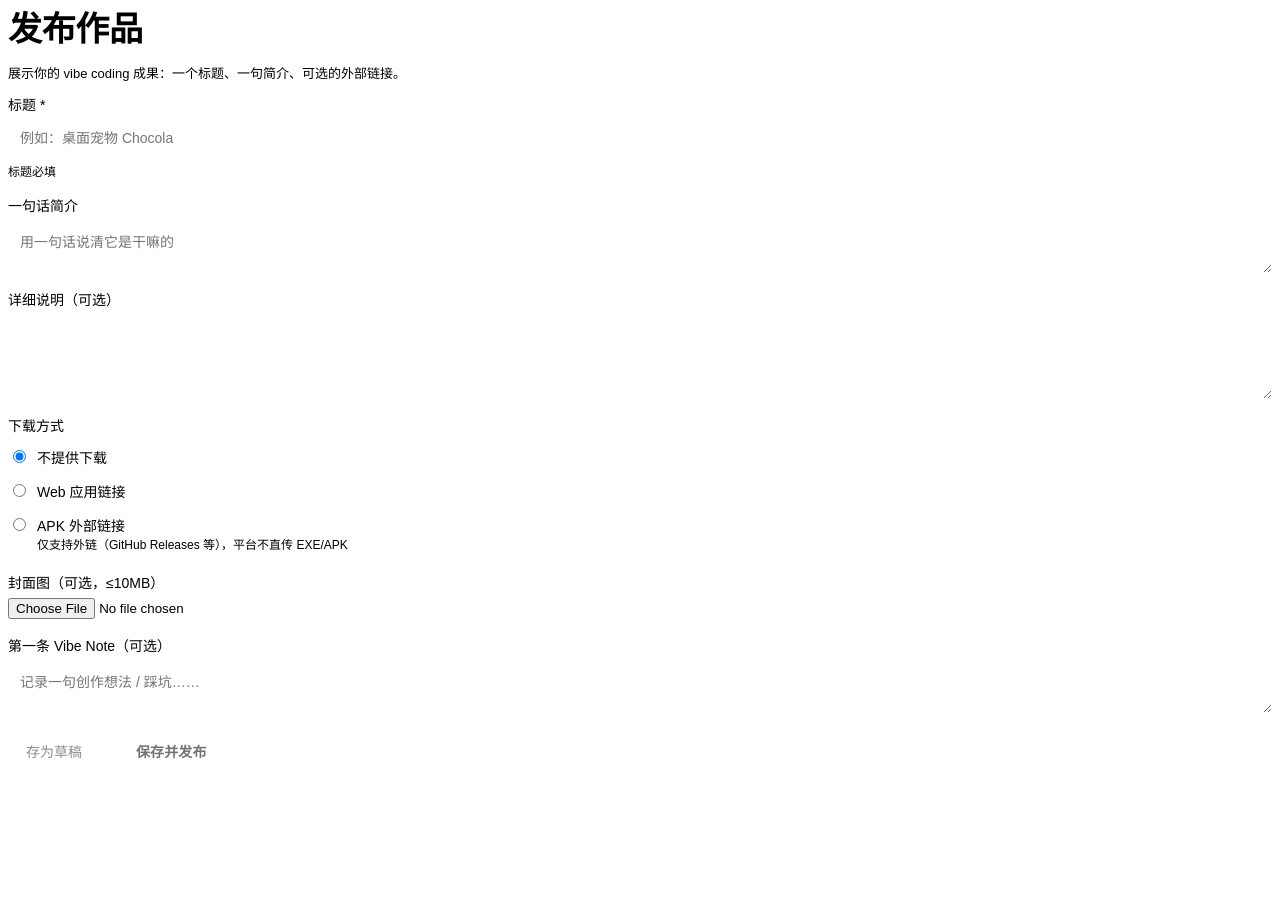
Test: PublishPage validation › accepts valid title + summary
In the field with placeholder "例如：桌面宠物 Chocola": (640,138) [8,120,1272,156], type "Test App"
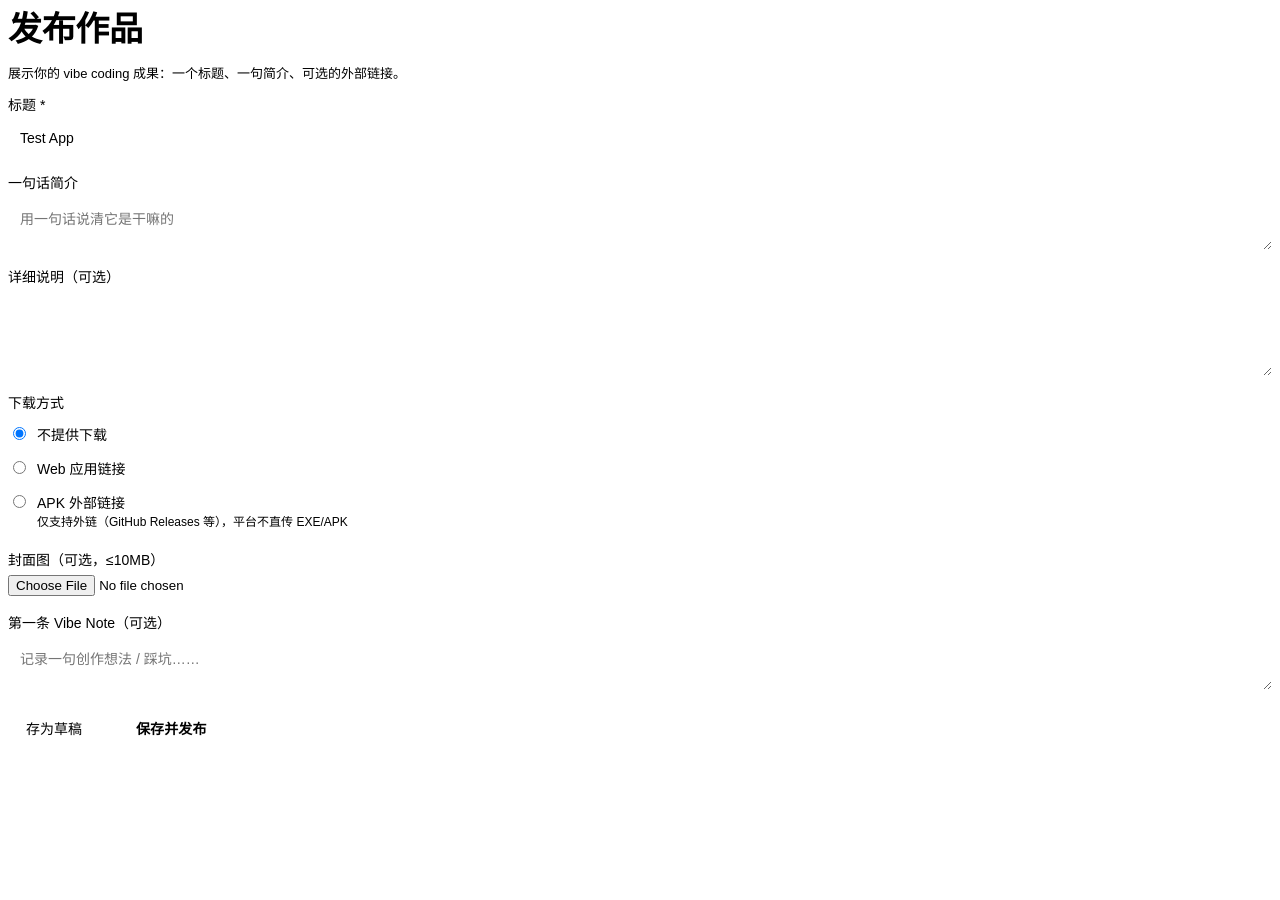
Expected: the button "保存并发布" is enabled, [112,706,230,750]
